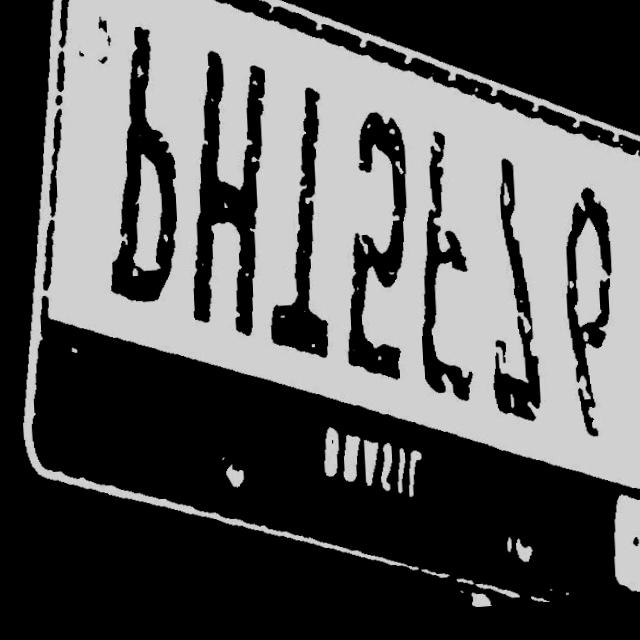5: (329, 83, 414, 407)
6: (552, 180, 631, 459)
7: (474, 133, 564, 446)
f: (406, 108, 488, 431)
h: (168, 38, 275, 352)
p: (99, 21, 184, 327)
t: (251, 58, 342, 385)
